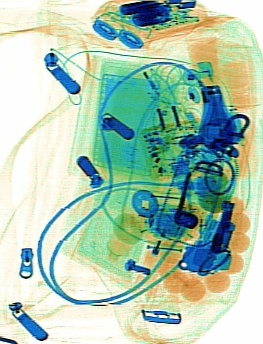lighter: (132, 213, 176, 289), (189, 59, 230, 128)
